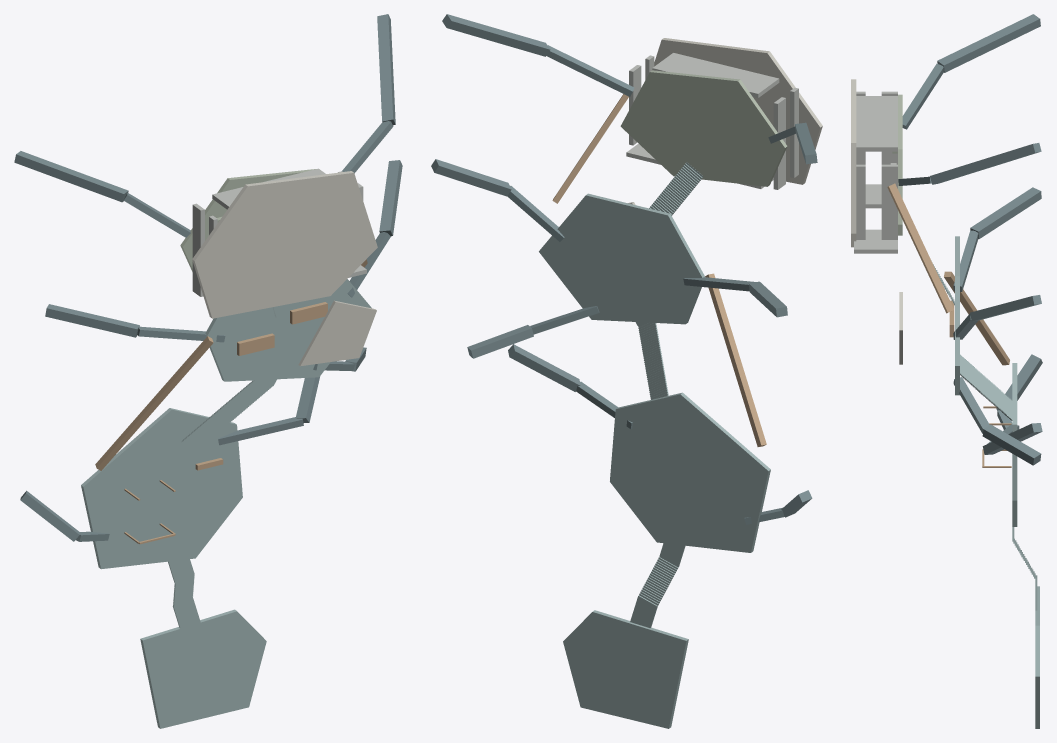
The model's file is broken_canopy.glb.
3 renders of one model, left to right at view 1: azimuth 30°, elevation 25°; view 2: azimuth 150°, elevation 25°; view 3: azimuth 270°, elevation 25°, orthographic.
Visible parts, largest first — view 1: living_roof, maker_deck, arrival_terrace, research_deck, research_partial_daylight_shade, route_0_exit, shared_maker_research_transfer, living_rib_0_upper, living_rib_1_upper, living_deck, research_rib_0_upper, research_rib_1_upper (+9 smaller); view 2: maker_deck, research_deck, living_deck, arrival_terrace, living_roof, living_rear, shared_maker_research_transfer, living_rib_1_upper, research_rib_1_upper, maker_rib_1_upper, living_rib_1_lower, research_rib_2_upper (+7 smaller); view 3: living_rear, living_rib_0_upper, shared_research_living_transfer, living_rib_1_upper, living_east_lower, research_rib_0_upper, living_roof, research_rib_2_upper, shared_maker_research_transfer, maker_deck, living_rib_0_lower, living_front_right (+10 smaller).
Boxes of the visible parts, bbox=[...] form: living_roof: bbox=[192, 171, 377, 318]; maker_deck: bbox=[81, 408, 242, 569]; arrival_terrace: bbox=[140, 609, 266, 728]; research_deck: bbox=[205, 279, 371, 381]; research_partial_daylight_shade: bbox=[298, 300, 376, 366]; route_0_exit: bbox=[151, 494, 193, 583]; shared_maker_research_transfer: bbox=[95, 336, 213, 470]; living_rib_0_upper: bbox=[14, 151, 128, 202]; living_rib_1_upper: bbox=[377, 14, 395, 125]; living_deck: bbox=[180, 169, 315, 271]; research_rib_0_upper: bbox=[45, 304, 139, 337]; research_rib_1_upper: bbox=[379, 160, 402, 236]; maker_deck: bbox=[610, 392, 770, 552]; research_deck: bbox=[539, 193, 705, 324]; living_deck: bbox=[620, 70, 787, 186]; arrival_terrace: bbox=[563, 610, 688, 728]; living_roof: bbox=[654, 38, 822, 184]; living_rear: bbox=[652, 53, 779, 97]; shared_maker_research_transfer: bbox=[705, 273, 766, 446]; living_rib_1_upper: bbox=[442, 14, 550, 56]; research_rib_1_upper: bbox=[431, 159, 511, 196]; maker_rib_1_upper: bbox=[508, 344, 580, 391]; living_rib_1_lower: bbox=[546, 45, 634, 96]; research_rib_2_upper: bbox=[467, 325, 533, 358]; living_rear: bbox=[856, 96, 897, 151]; living_rib_0_upper: bbox=[937, 14, 1040, 72]; shared_research_living_transfer: bbox=[887, 183, 954, 313]; living_rib_1_upper: bbox=[930, 143, 1041, 184]; living_east_lower: bbox=[881, 164, 897, 239]; research_rib_0_upper: bbox=[970, 187, 1041, 238]; living_roof: bbox=[851, 79, 856, 247]; research_rib_2_upper: bbox=[982, 424, 1041, 465]; shared_maker_research_transfer: bbox=[944, 271, 1009, 365]; maker_deck: bbox=[1012, 363, 1017, 526]; living_rib_0_lower: bbox=[902, 63, 943, 129]; living_front_right: bbox=[854, 229, 897, 253].
Size of the model in its own units: 65.72 by 107 by 28.49.
